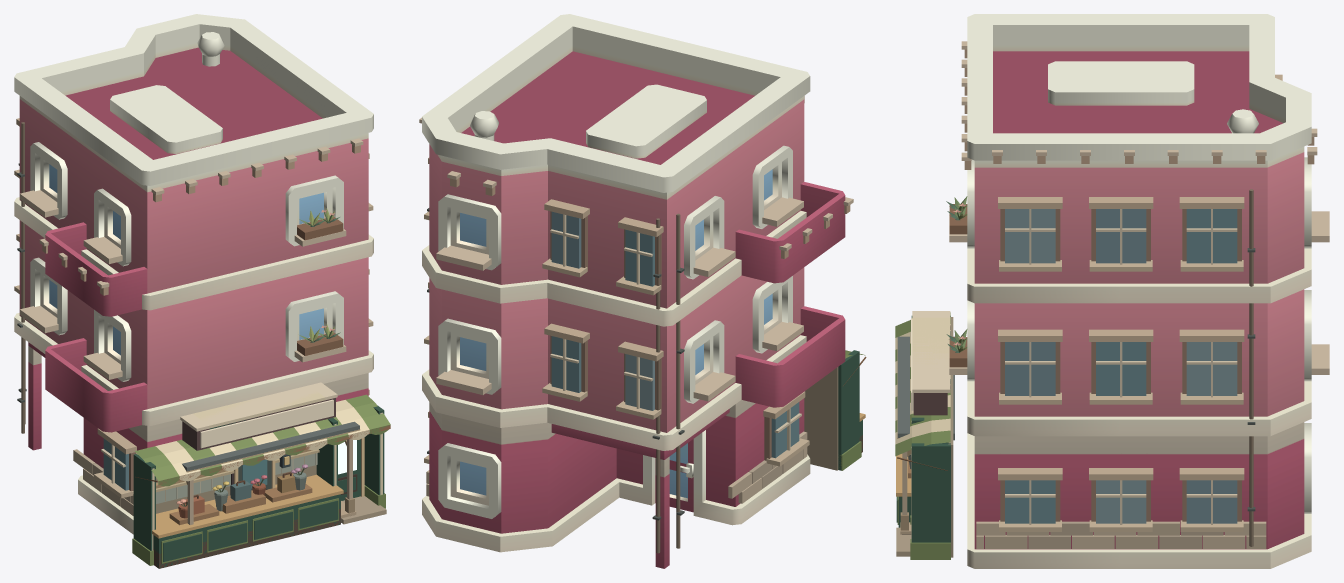
The model's file is shop-b-pink.glb.
3 renders of one model, left to right at view 1: azimuth 30°, elevation 25°; view 2: azimuth 150°, elevation 25°; view 3: azimuth 270°, elevation 25°, orthographic. The views are drawn at different scales.
Parts seen in each view (by area): view 1: building-b, FLOWERS_Joinery, HOOF_&_CO_Joinery, Upper_floor_balconies_and_carved_cornice, Masonry_and_stairwell_windows, Residential_Portico; view 2: building-b, Masonry_and_stairwell_windows, Upper_floor_balconies_and_carved_cornice, FLOWERS_Joinery; view 3: building-b, Masonry_and_stairwell_windows, FLOWERS_Joinery, Upper_floor_balconies_and_carved_cornice, HOOF_&_CO_Joinery, Residential_Portico.
Part boxes in pixels (x1,y1,x2,y2): building-b: (14,14,373,534); FLOWERS_Joinery: (132,391,390,568); HOOF_&_CO_Joinery: (156,382,390,525); Upper_floor_balconies_and_carved_cornice: (20,138,363,379); Masonry_and_stairwell_windows: (14,118,373,515); Residential_Portico: (182,421,360,524); building-b: (422,14,845,568); Masonry_and_stairwell_windows: (424,157,809,553); Upper_floor_balconies_and_carved_cornice: (419,96,853,401); FLOWERS_Joinery: (804,350,866,470); building-b: (967,14,1311,568); Masonry_and_stairwell_windows: (976,74,1282,548); FLOWERS_Joinery: (895,312,953,559); Upper_floor_balconies_and_carved_cornice: (946,41,1329,374); HOOF_&_CO_Joinery: (908,311,950,478); Residential_Portico: (897,336,954,534).
Size of the model in its own units: 1.02 by 1.29 by 1.19.
Materials: 68 (1 with a texture image).
